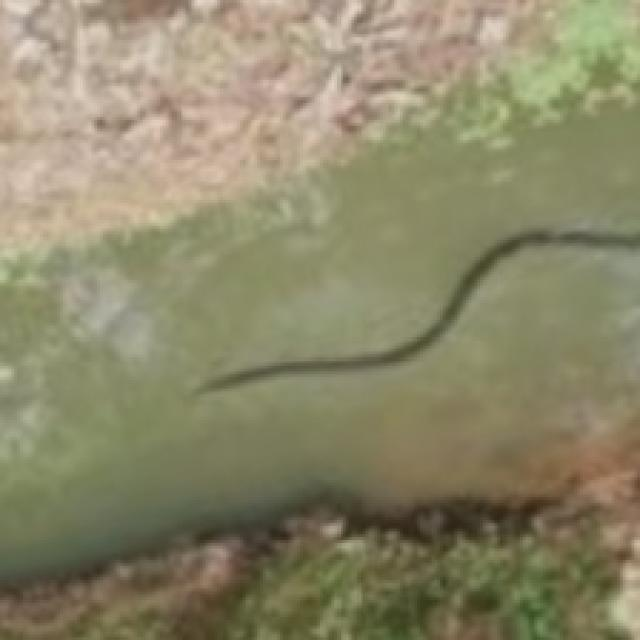king cobra: (194, 229, 637, 391)
